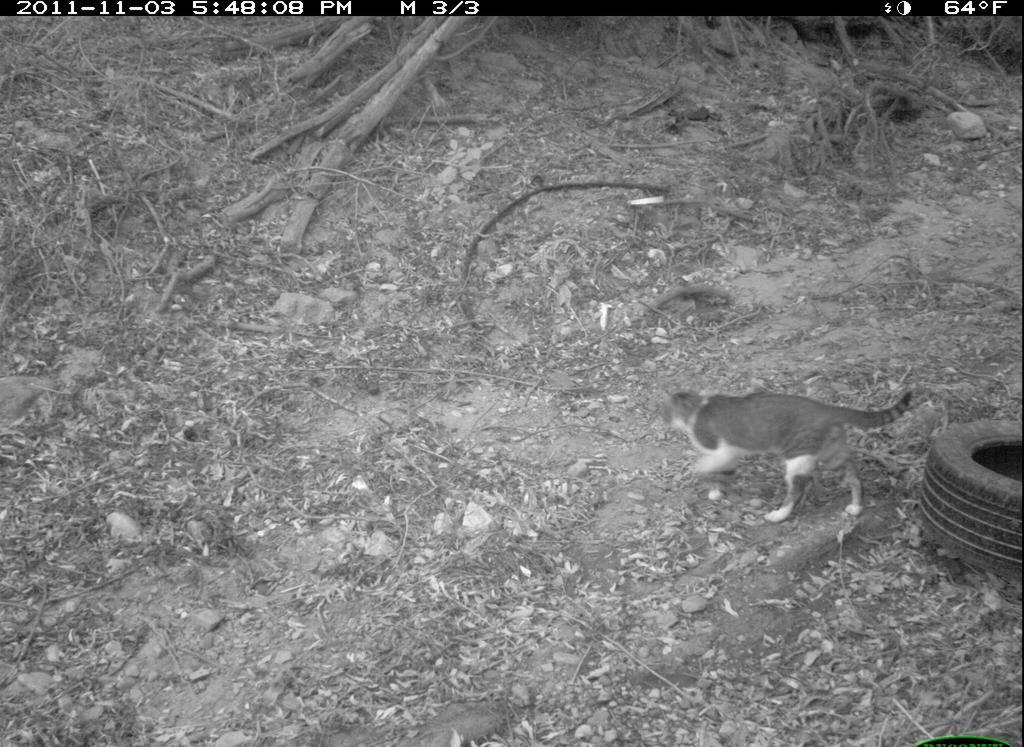cat: (649, 364, 930, 534)
